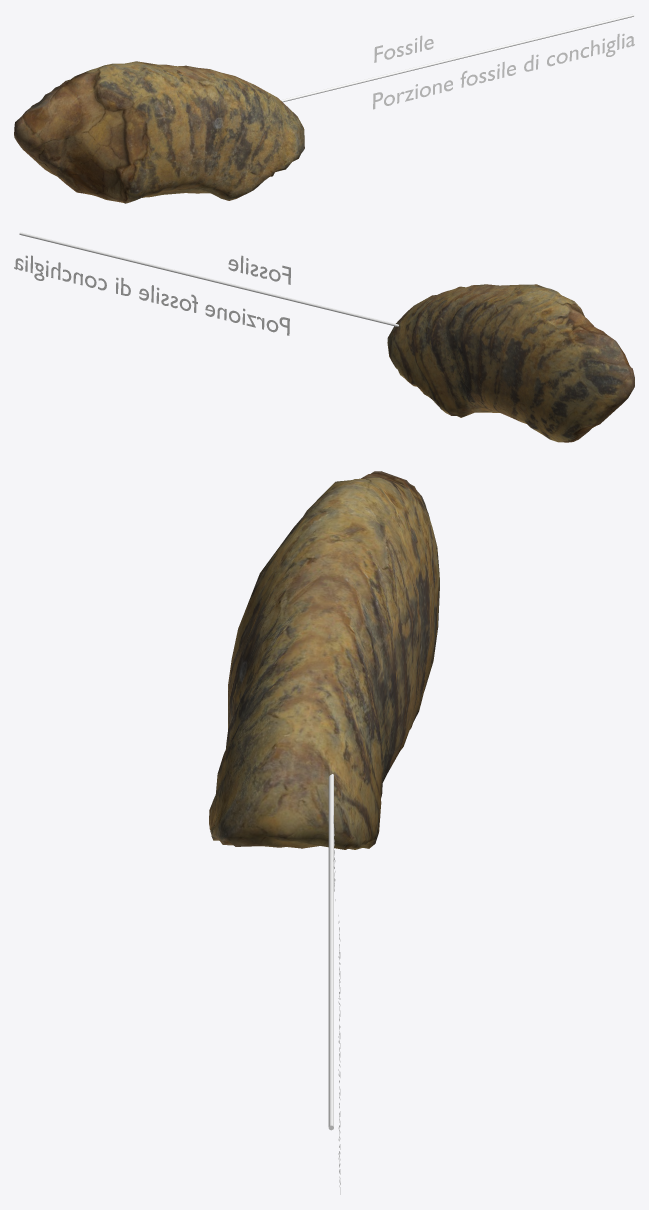
The model's file is Fossile2.gltf.
3 views of the same model, one above another, from view 1: azimuth 30°, elevation 25°; view 2: azimuth 150°, elevation 25°; view 3: azimuth 270°, elevation 25° (orthographic). The views are drawn at different scales.
Visible parts, largest first — view 1: fossil03, Text, riga; view 2: fossil03, Text, riga; view 3: fossil03, riga.
Boxes of the visible parts, left/top/right/bottom form: fossil03: left=14, top=61, right=304, bottom=203; Text: left=373, top=33, right=634, bottom=109; riga: left=281, top=14, right=633, bottom=102; fossil03: left=387, top=284, right=634, bottom=442; Text: left=14, top=255, right=290, bottom=335; riga: left=19, top=232, right=398, bottom=326; fossil03: left=209, top=471, right=439, bottom=849; riga: left=328, top=774, right=333, bottom=1130.
Bounding box in the file's own units: 5.32 × 1.17 × 0.8818.
2 materials, 1 textured.
